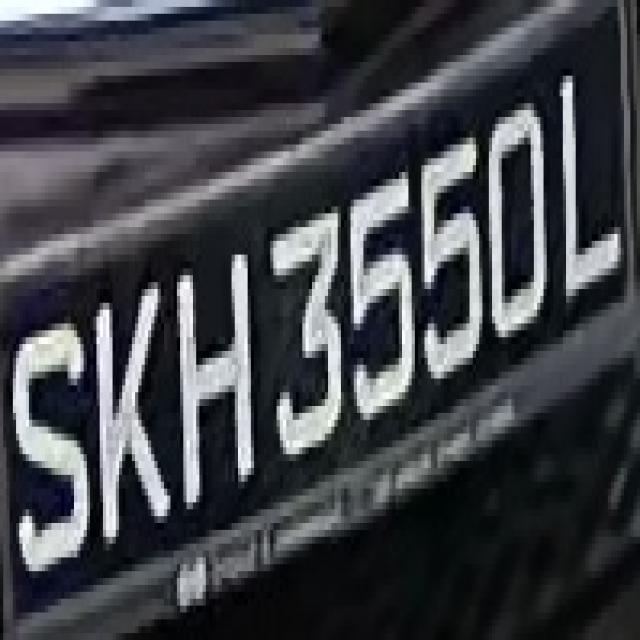0: (473, 96, 553, 351)
3: (260, 193, 348, 475)
5: (338, 144, 428, 433), (402, 124, 492, 392)
H: (161, 227, 267, 516)
K: (84, 254, 177, 550)
L: (553, 48, 640, 310)
S: (7, 289, 94, 578)
